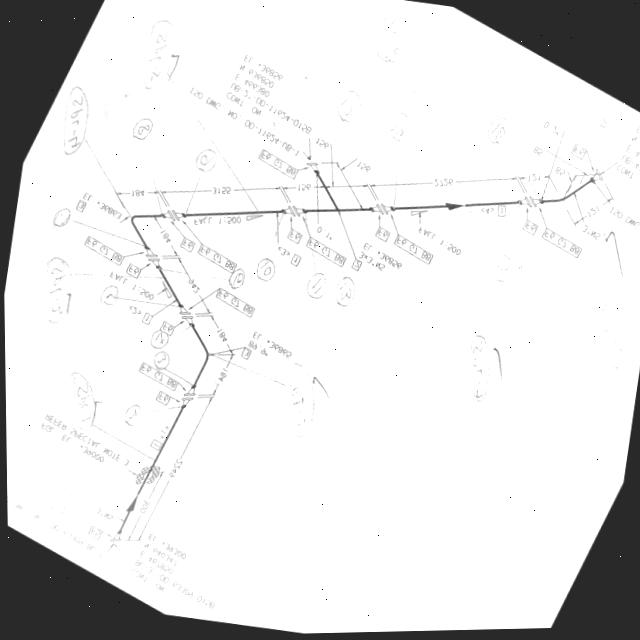Item number: (302, 236, 346, 273), (540, 228, 582, 264), (195, 244, 239, 278), (82, 235, 124, 270), (212, 288, 255, 322), (393, 234, 433, 269), (256, 151, 298, 183), (136, 363, 178, 395), (568, 146, 588, 166), (520, 221, 539, 241), (284, 252, 303, 272), (178, 235, 196, 256), (373, 226, 391, 246), (123, 263, 142, 281), (84, 525, 101, 545), (153, 392, 171, 410), (286, 230, 303, 248), (159, 321, 175, 336), (349, 259, 362, 276), (140, 312, 153, 328), (74, 199, 86, 216), (147, 439, 160, 454), (239, 348, 251, 363), (496, 206, 506, 221)
Measrement: (147, 392, 214, 520), (122, 467, 170, 543), (366, 176, 520, 194), (142, 185, 279, 204), (530, 146, 580, 188), (174, 258, 207, 310), (571, 197, 616, 233), (358, 243, 403, 275), (308, 134, 342, 174), (204, 314, 234, 358), (210, 351, 233, 403), (152, 216, 180, 257), (114, 186, 161, 201), (539, 120, 567, 144), (348, 158, 372, 181), (516, 173, 550, 189), (311, 224, 334, 246), (94, 508, 115, 527), (295, 182, 317, 195)
Pipeline: (117, 175, 591, 530)
Symbol: (301, 169, 381, 236), (535, 174, 594, 227), (179, 324, 218, 399), (115, 203, 168, 257), (157, 207, 187, 227), (173, 305, 197, 330), (178, 381, 197, 411), (141, 250, 166, 272), (369, 202, 395, 219), (442, 201, 466, 219), (518, 195, 543, 212), (106, 525, 123, 550), (284, 204, 307, 221), (585, 172, 604, 191), (304, 159, 321, 178)
Weld number: (366, 0, 413, 73), (59, 84, 93, 159), (63, 369, 96, 423), (591, 292, 627, 334), (145, 17, 177, 61), (331, 89, 365, 128), (41, 253, 72, 293), (383, 110, 416, 147), (331, 276, 358, 313), (484, 116, 512, 150), (488, 254, 515, 289), (192, 147, 220, 177), (302, 273, 329, 304), (147, 325, 172, 355), (593, 105, 618, 134), (252, 258, 277, 287), (130, 116, 155, 144), (53, 493, 76, 520), (97, 285, 120, 310), (50, 207, 72, 232), (120, 405, 141, 430), (150, 352, 170, 373)
other: (186, 54, 313, 162), (127, 533, 217, 620), (6, 494, 101, 562), (36, 411, 133, 476), (613, 124, 640, 199), (415, 226, 462, 263), (245, 332, 295, 366), (79, 191, 125, 225), (357, 243, 403, 276), (114, 276, 157, 305), (607, 206, 640, 242), (539, 121, 568, 144)
